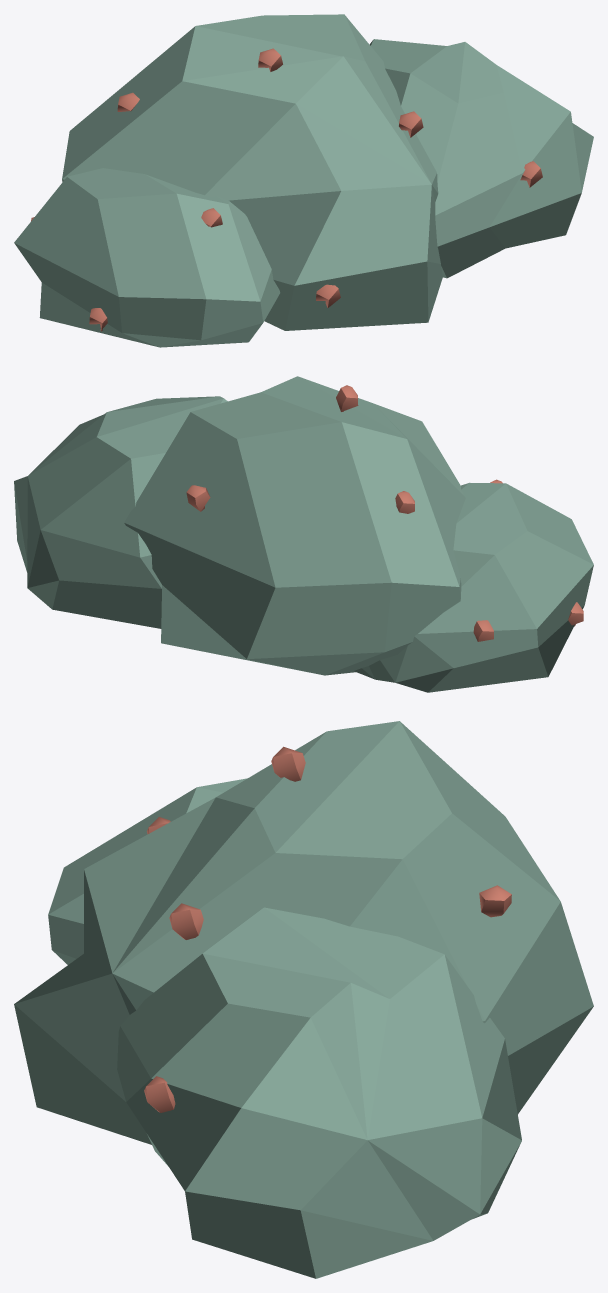
The model's file is SM_Bush2.fbx.
The picture shows the model from 3 angles, top to bottom: view 1: azimuth 30°, elevation 25°; view 2: azimuth 150°, elevation 25°; view 3: azimuth 270°, elevation 25°; orthographic projection. The views are drawn at different scales.
Visible parts, largest first — view 1: Bush2; view 2: Bush2; view 3: Bush2.
Part boxes in pixels (left/top/right/bottom): Bush2: left=14, top=14, right=593, bottom=347; Bush2: left=14, top=376, right=593, bottom=692; Bush2: left=14, top=721, right=593, bottom=1278.
Size of the model in its own units: 111 by 44.7 by 72.51.
